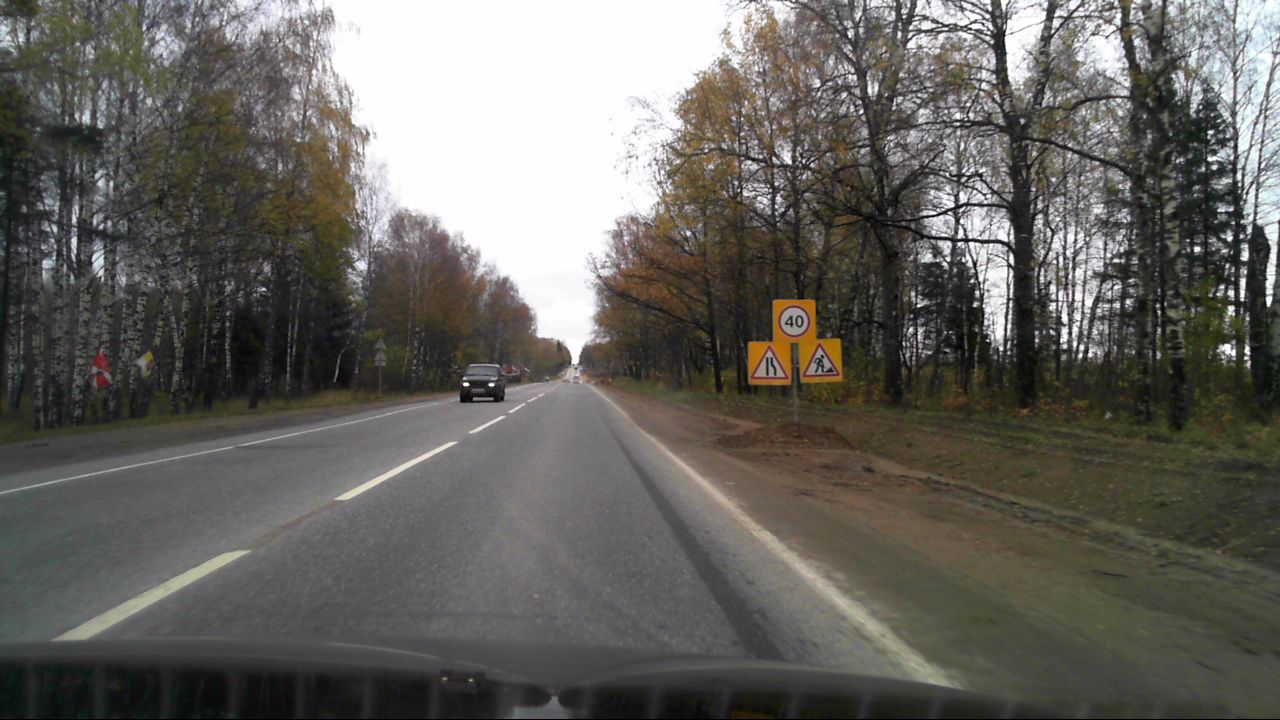speed_warning_40: (773, 299, 816, 343)
